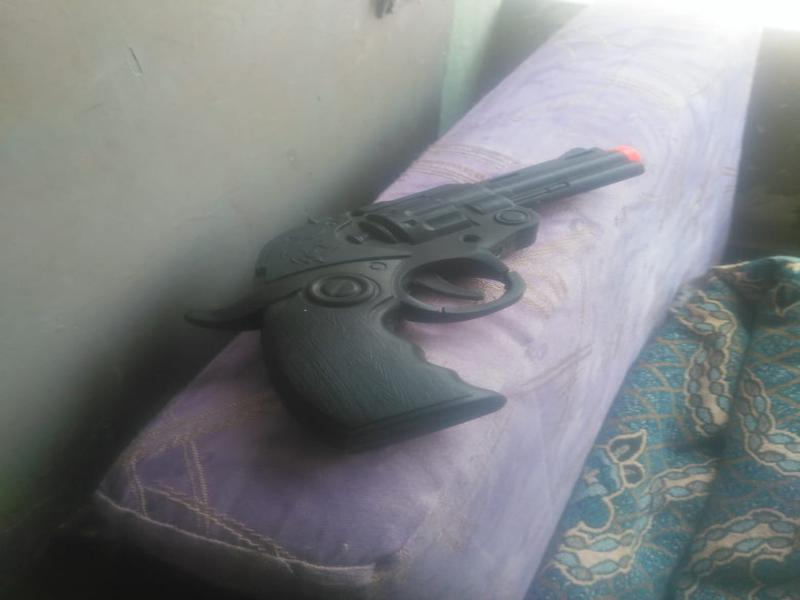gun: (180, 119, 683, 460)
